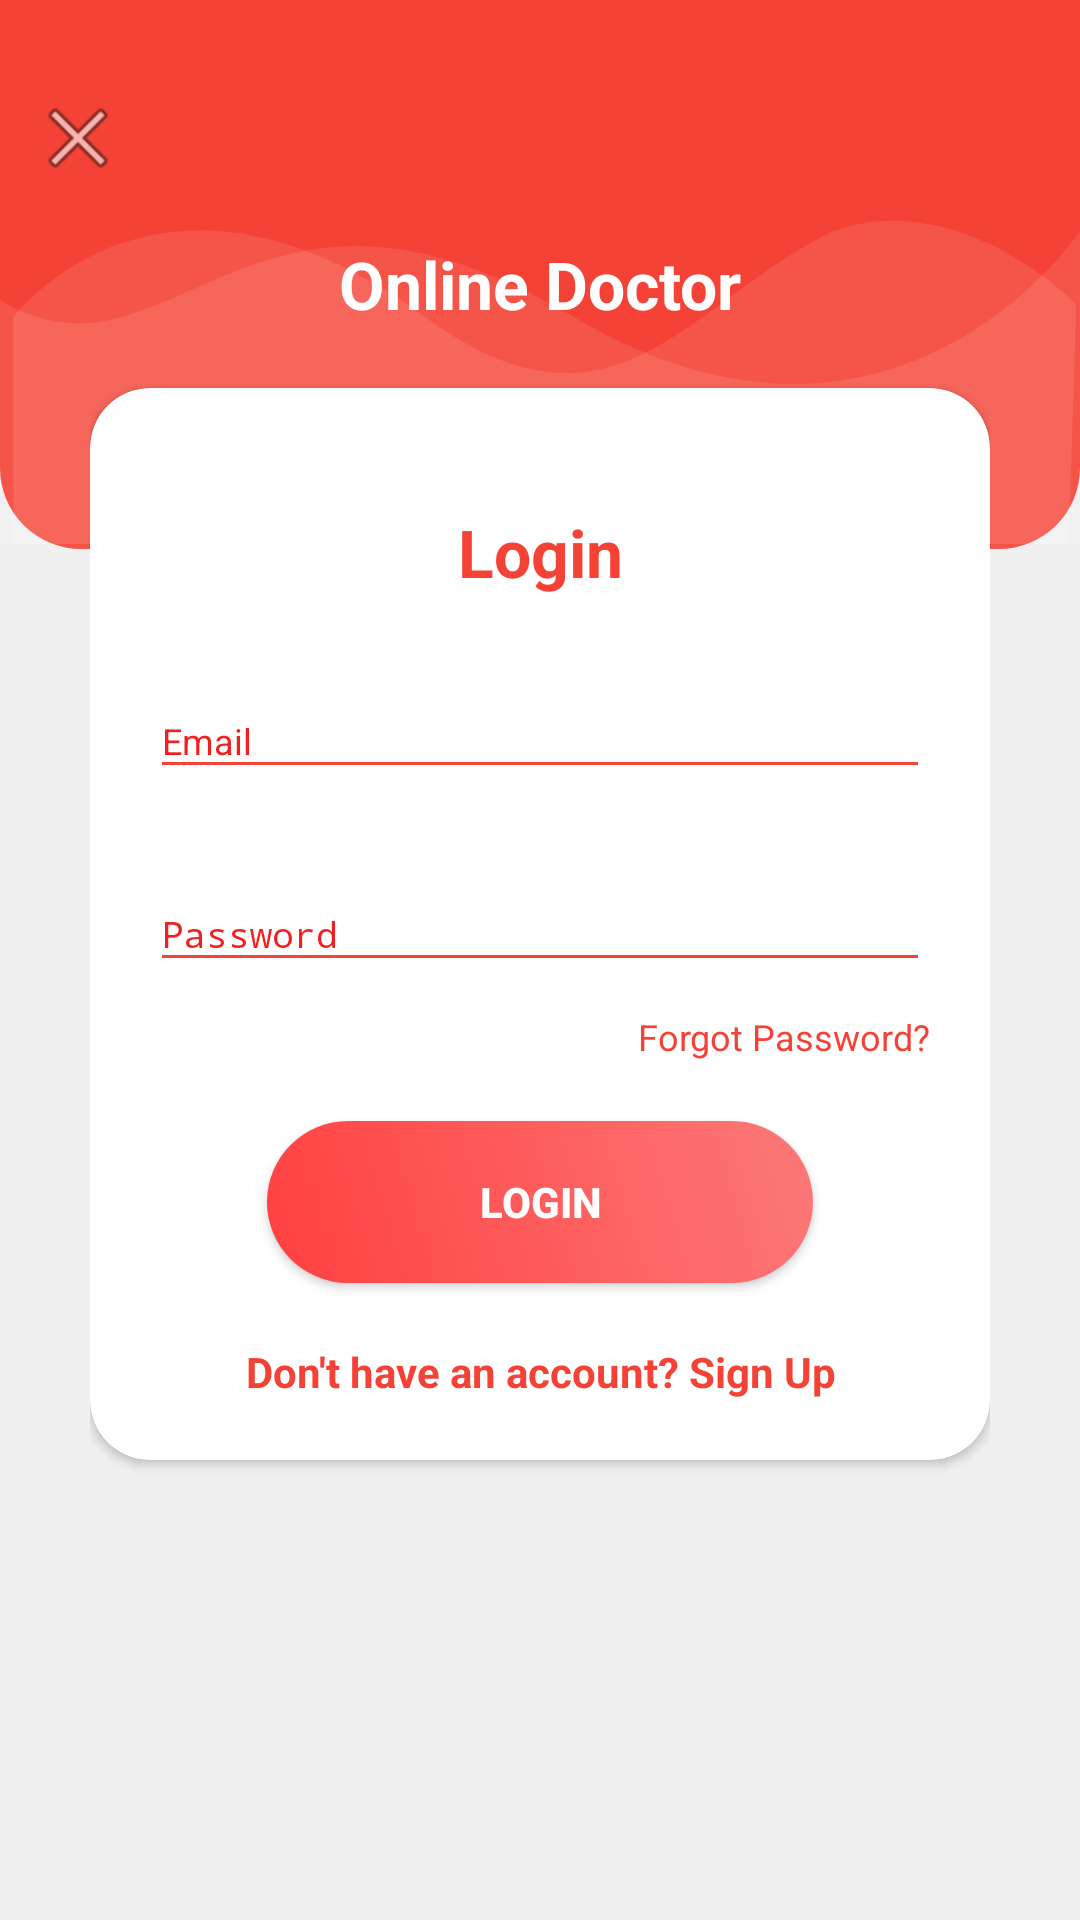

Icon bounding boxes for this 1080px×1920px phone screenshot, format [x1,y1,x2,y2]:
close clear cancel: [48,108,108,168]
